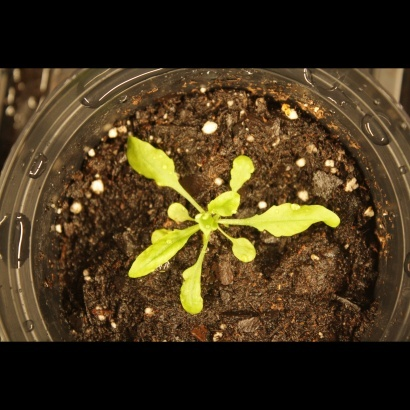leaf: (117, 123, 186, 193), (251, 200, 346, 246), (121, 230, 193, 282), (179, 256, 212, 318), (224, 147, 256, 193), (206, 185, 244, 218), (223, 232, 258, 265), (150, 224, 182, 248), (163, 200, 191, 226), (196, 212, 220, 238)
